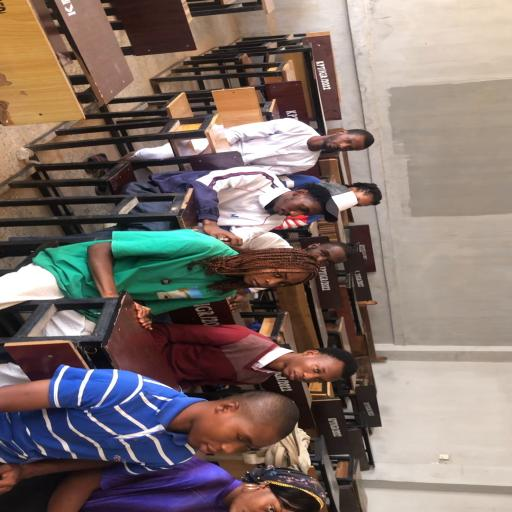Usingmobile: (0, 197, 352, 398), (0, 359, 321, 512)
